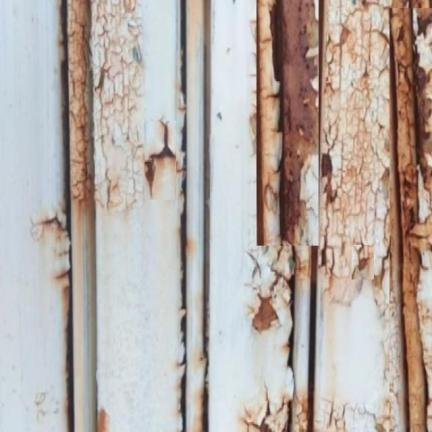karat: (381, 0, 431, 431)
